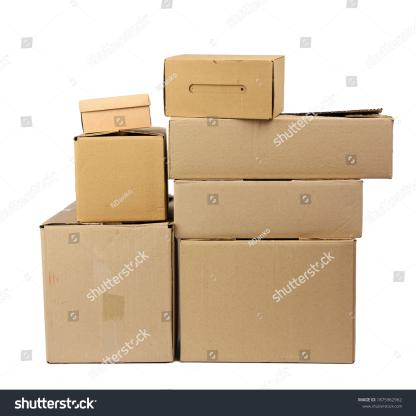box: (178, 238, 357, 365), (39, 226, 173, 366), (168, 118, 392, 178), (173, 179, 363, 238), (74, 134, 166, 223), (162, 58, 272, 118), (79, 95, 152, 133)
